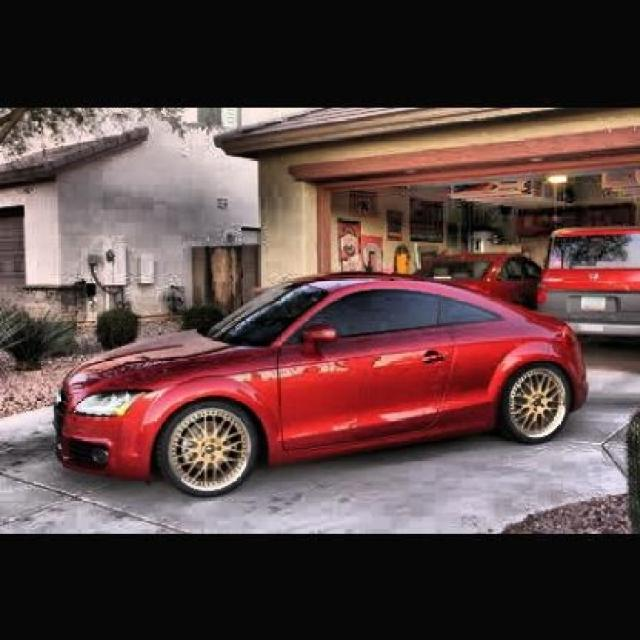red: (53, 273, 585, 494)
